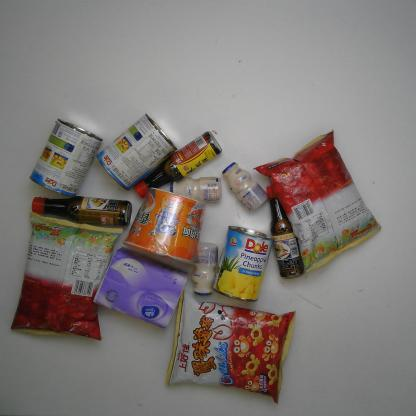Canned Food: (96, 113, 178, 191), (29, 118, 102, 197), (212, 225, 273, 303)
Instant Noodles: (122, 187, 205, 265)
Milk: (222, 162, 268, 212), (192, 242, 219, 297), (170, 176, 222, 203)
Puffed Food: (253, 129, 382, 272), (164, 289, 296, 407), (10, 212, 123, 342)
Seasoner: (134, 130, 222, 198), (266, 184, 305, 280), (31, 197, 132, 226)
Tissue: (92, 246, 190, 332)
